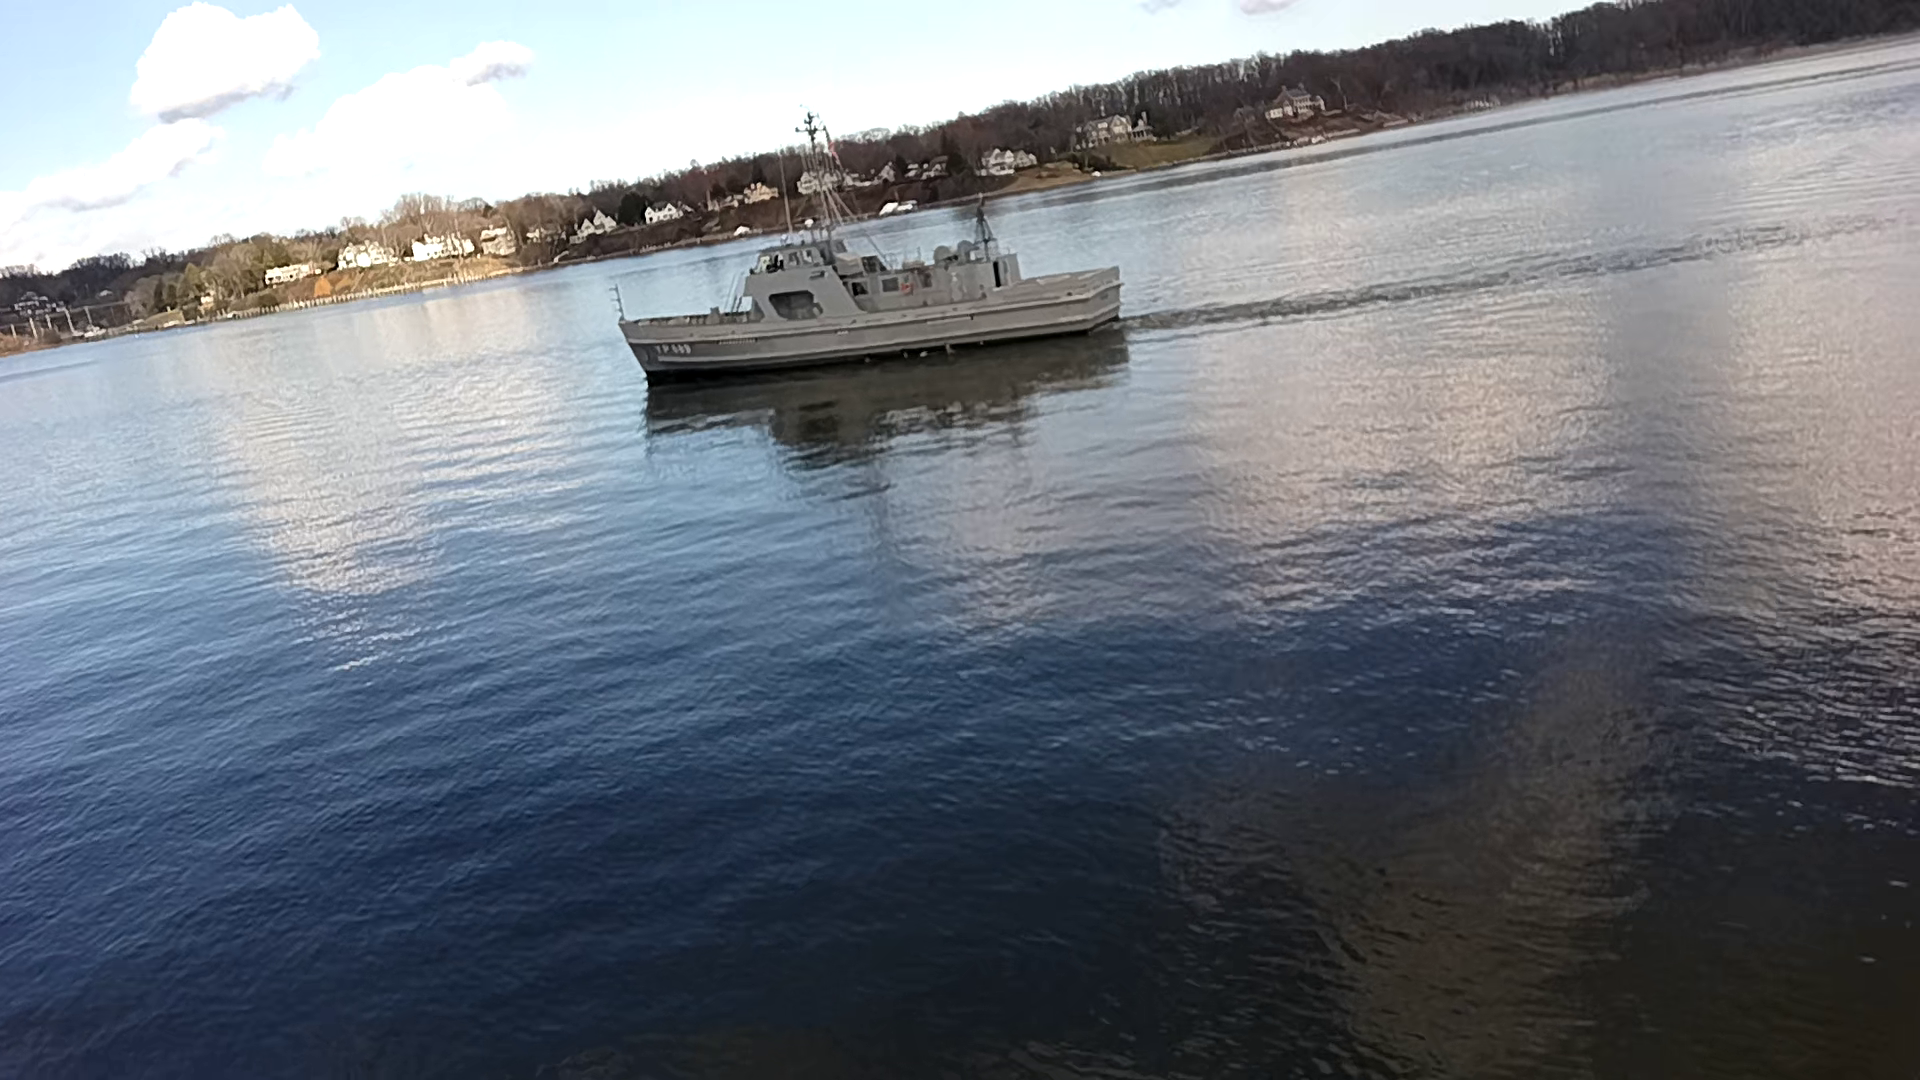YP689: (617, 111, 1122, 382)
